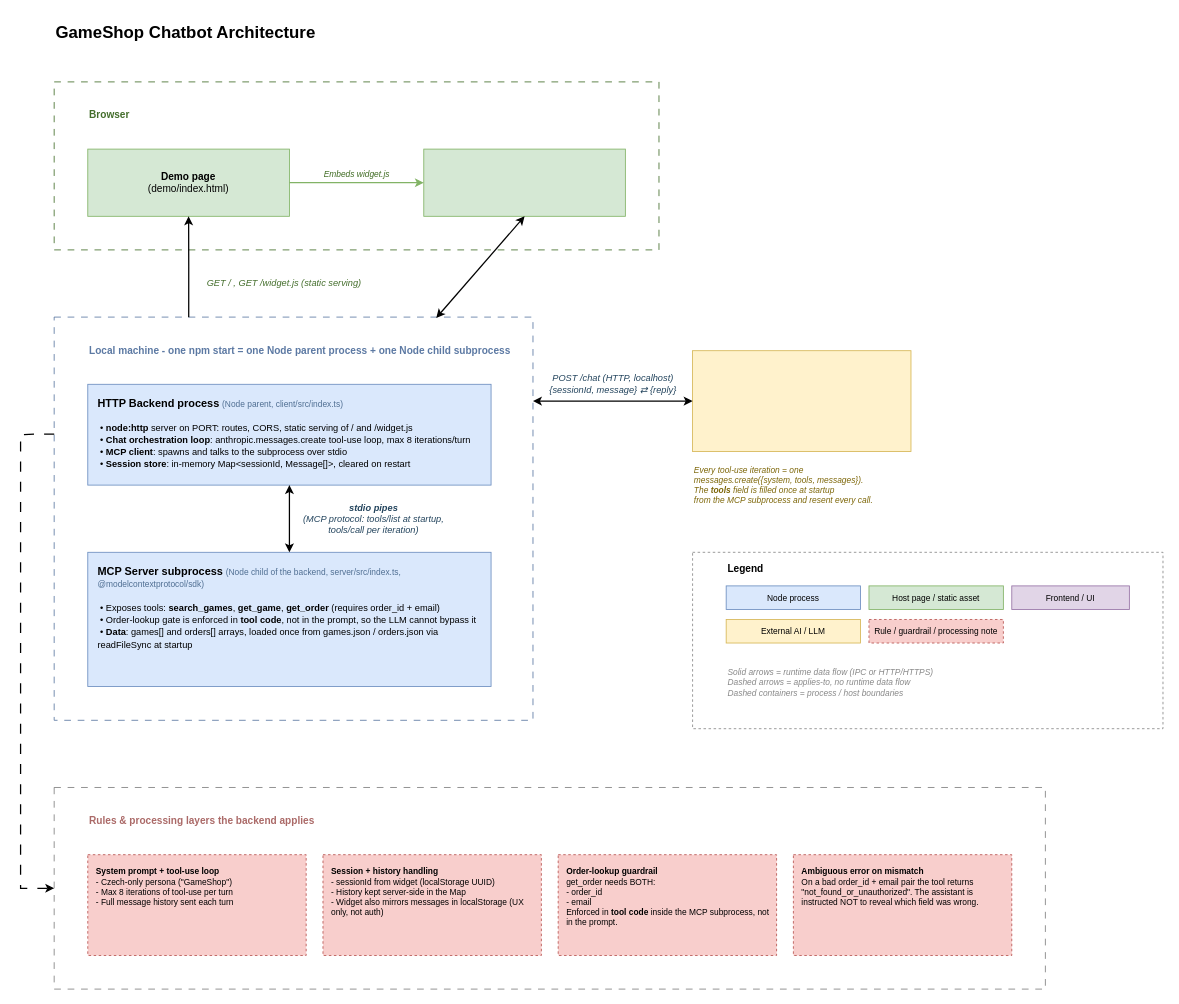
Some shapes in this 1179 by 1004 pixel diagram are drawn without their labels. The shapes that lost their labels are listed below. From the top down, each one's centre as x and y in pixels, then its label:
At (524,182): "Chat Widget (vanilla TS, Shadow DOM, localStorage for sessionId)".
At (801,401): "Anthropic Claude API (external HTTPS service, api.anthropic.com)".
